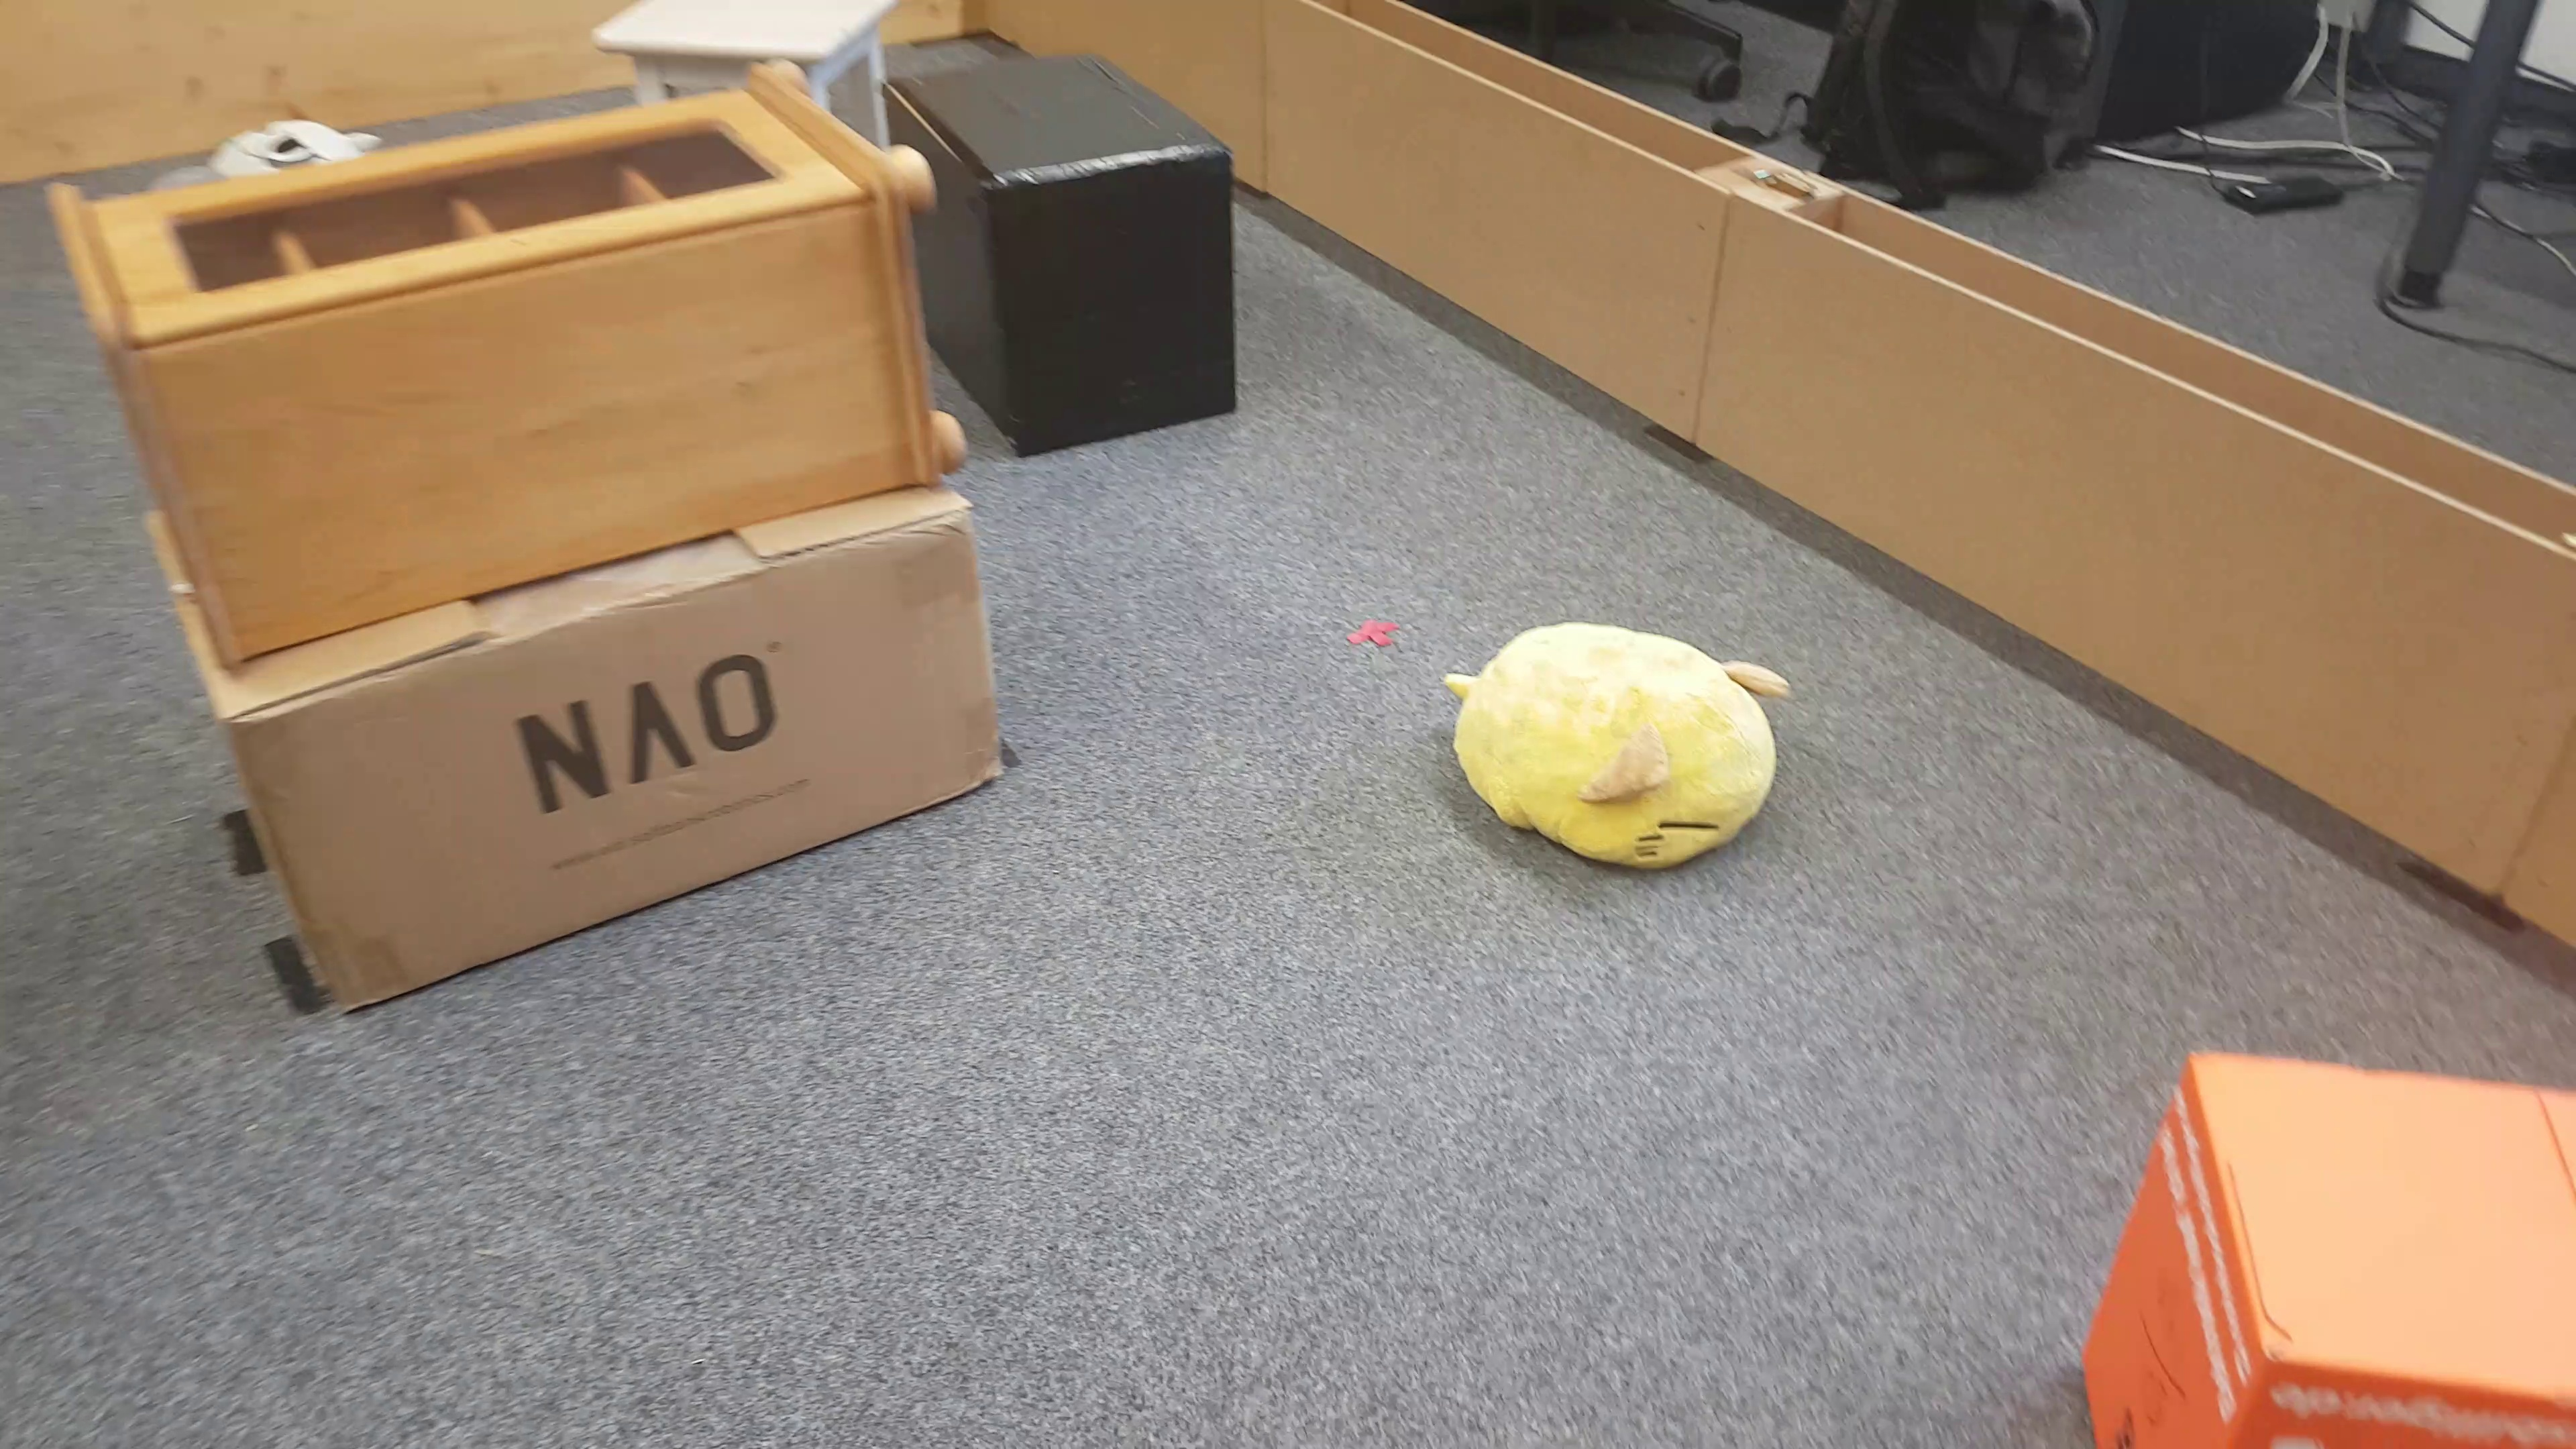grasp: (1438, 619, 1782, 878), (152, 119, 363, 165)
push: (2088, 1049, 2576, 1433), (957, 58, 1244, 449)
